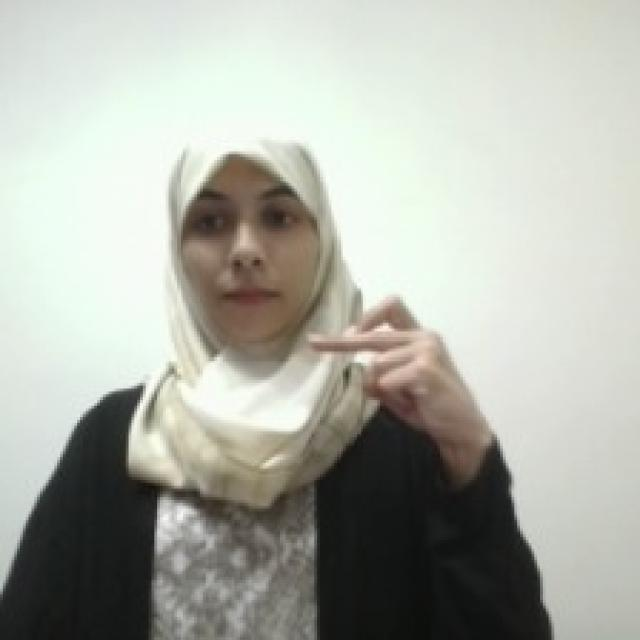sunday: (305, 286, 464, 436)
